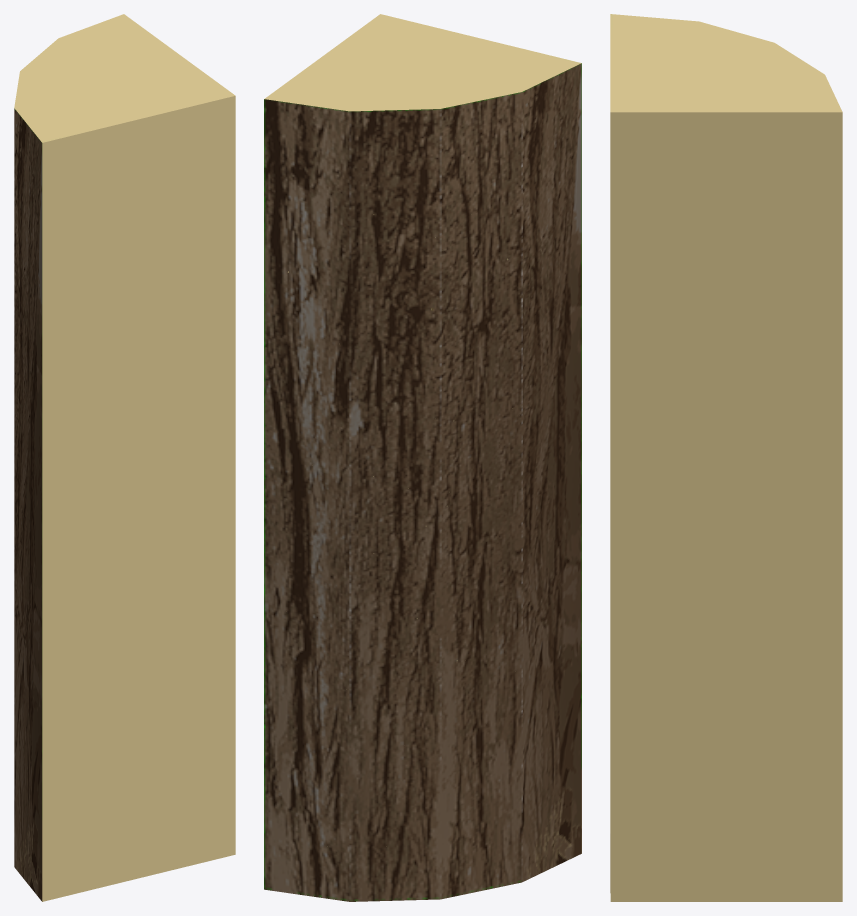
File: firewood.fbx
3 views of the same model, side by side, from view 1: azimuth 30°, elevation 25°; view 2: azimuth 150°, elevation 25°; view 3: azimuth 270°, elevation 25° (orthographic). The views are drawn at different scales.
Parts seen in each view (by area): view 1: Cylinder001; view 2: Cylinder001; view 3: Cylinder001.
Boxes of the visible parts, x1,y1,x2,y2 form: Cylinder001: [14, 14, 235, 901]; Cylinder001: [264, 14, 581, 901]; Cylinder001: [610, 14, 842, 901].
Size of the model in its own units: 12 by 45 by 12.
1 material, 1 textured.
